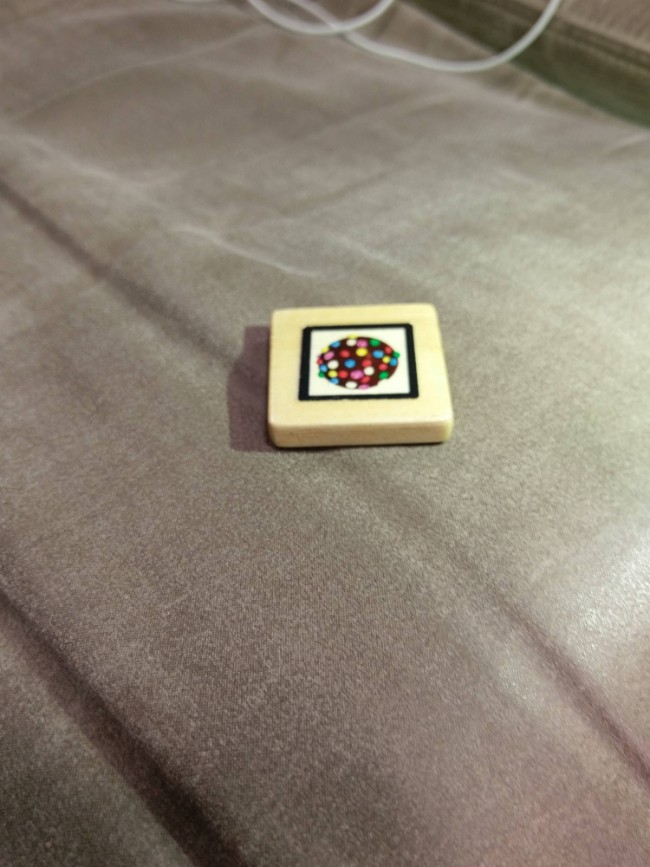cookie: (308, 326, 410, 394)
